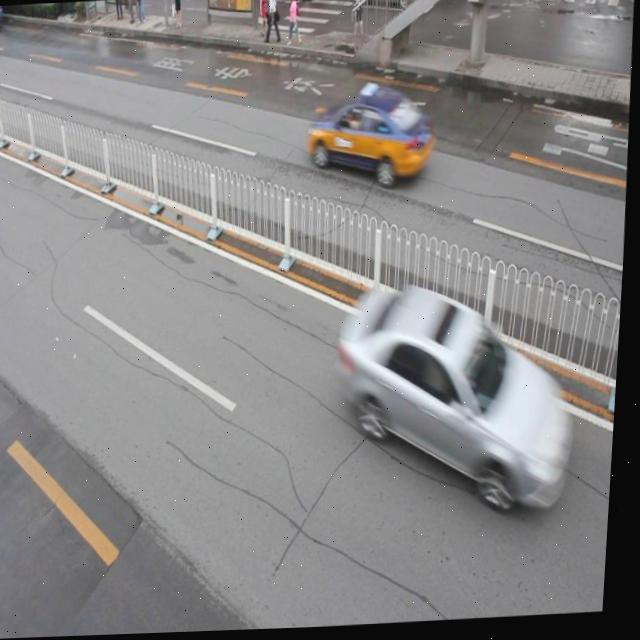car: (337, 281, 582, 522), (308, 85, 439, 191)
